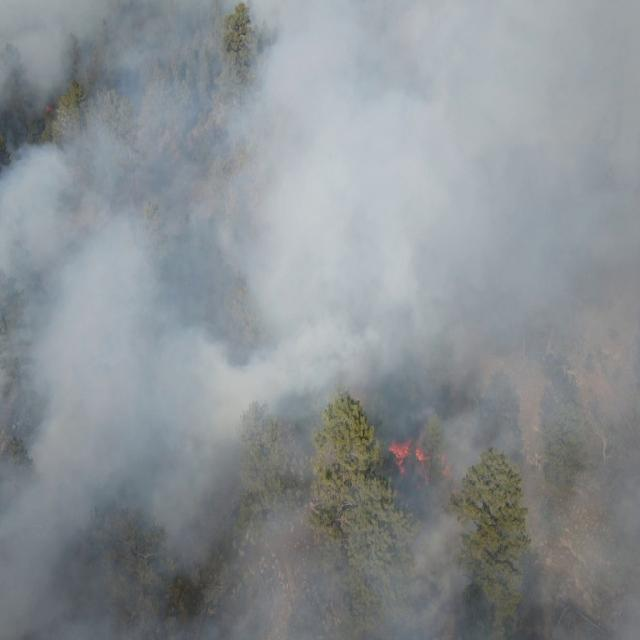fire: (385, 439, 447, 486), (44, 100, 55, 120)
smoke: (0, 0, 640, 640)
